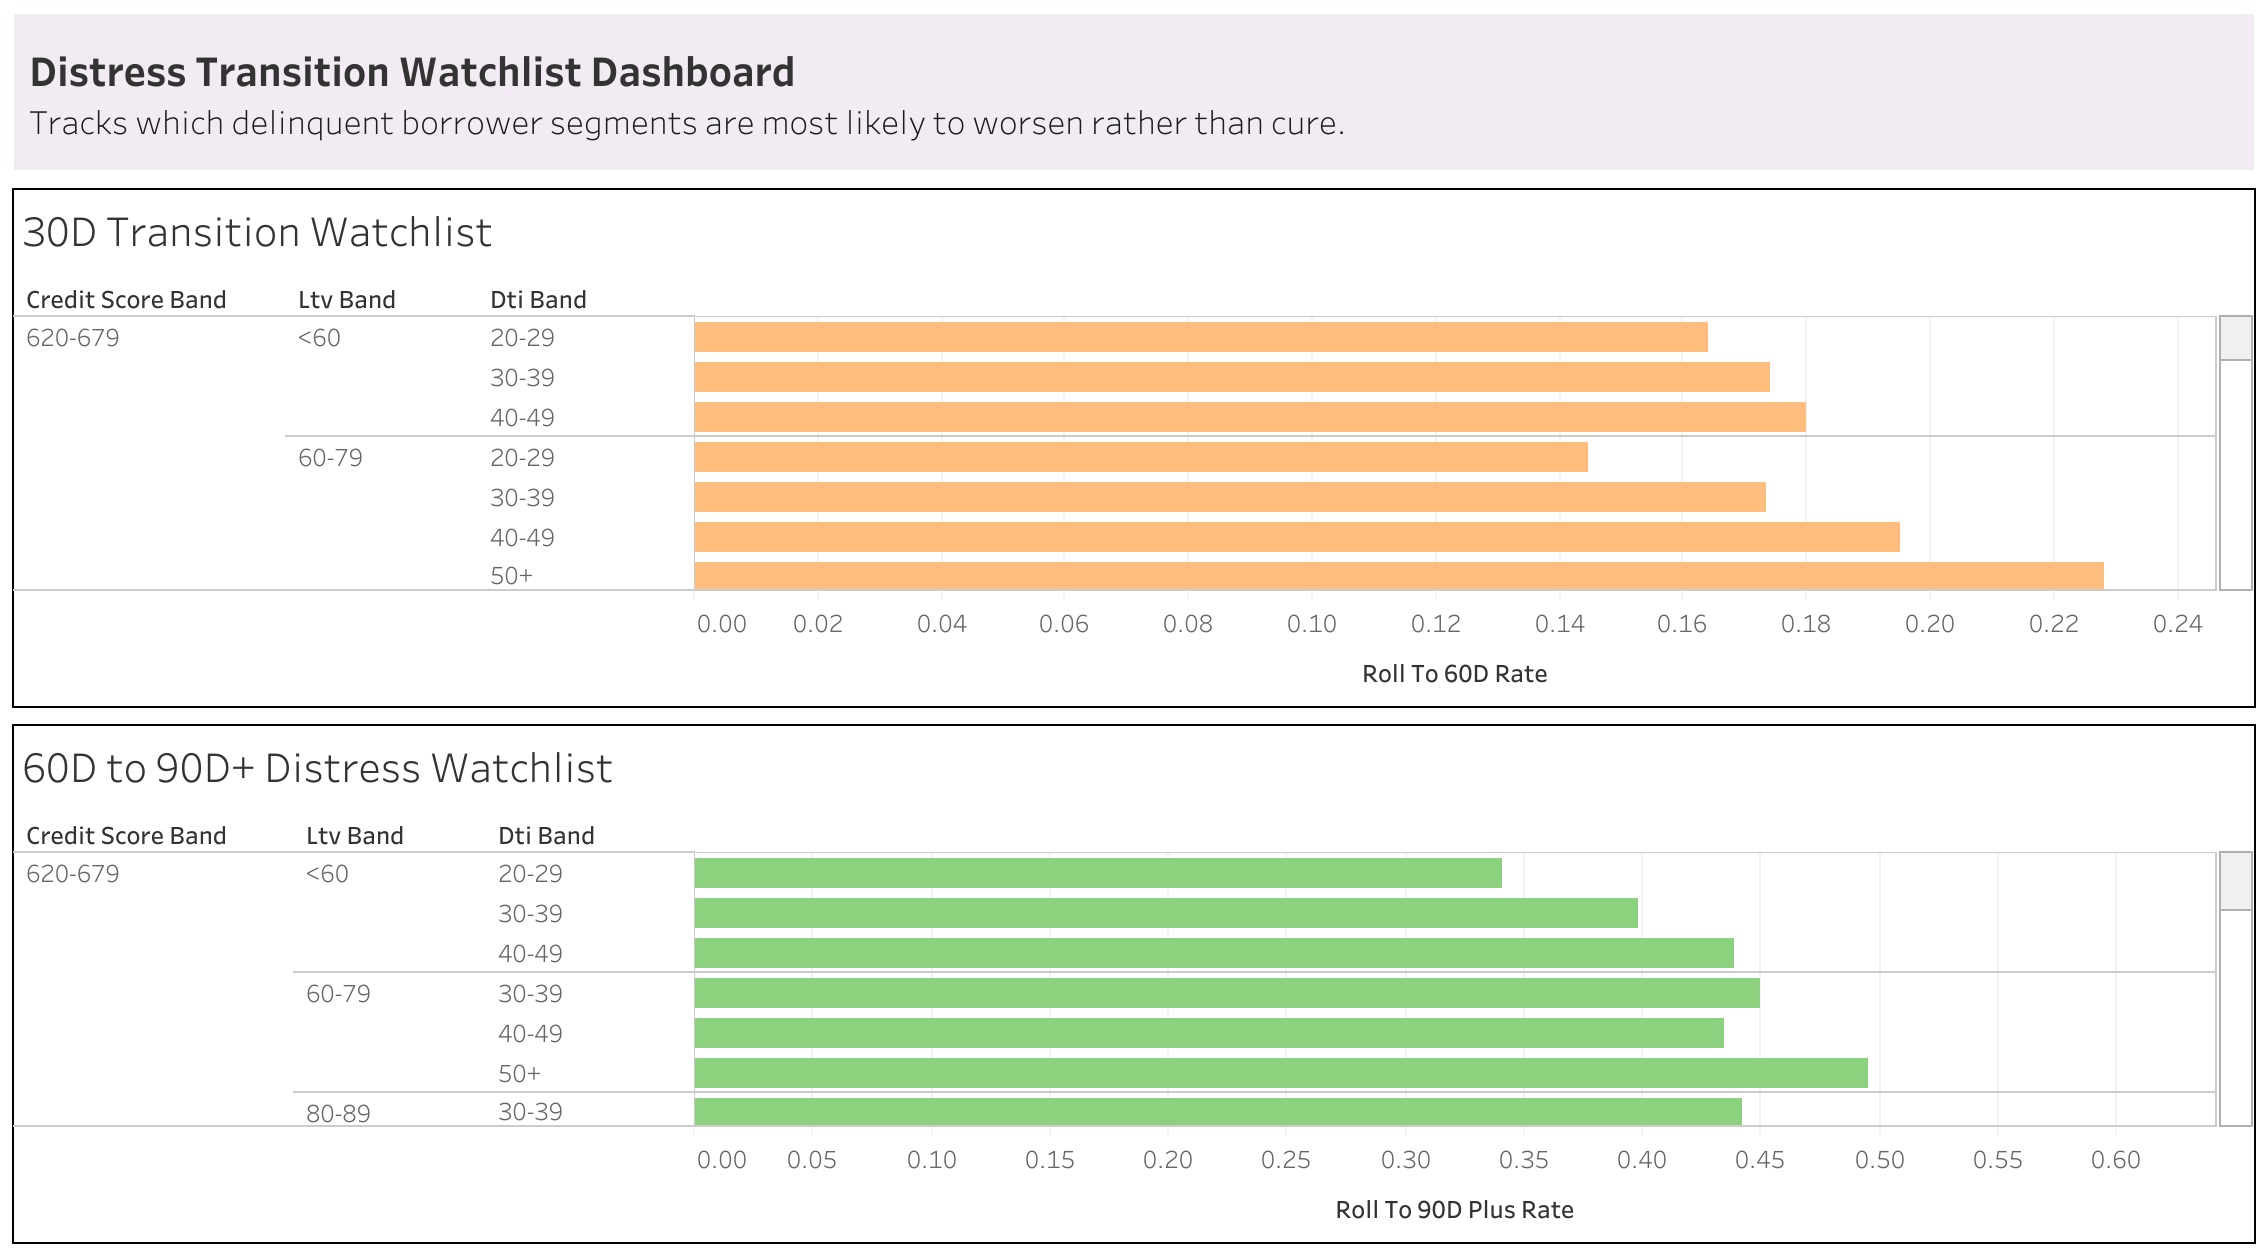

Layout of this report page (visuals, bound fields, positions):
{"tool":"tableau","page":{"name":"Distress Transition Watchlist Dashboard","canvas":[1000,1000],"units":"permille","ordinal":0},"visuals":[{"type":"title","box":[2.1,2.7,995.8,119.2]},{"type":"worksheet","title":"30D Transition Watchlist","mark":"Automatic","rows":["credit_score_band","ltv_band","dti_band"],"cols":["roll_to_60d_rate"],"box":[2.1,122,995.8,437.6]},{"type":"worksheet","title":"60D to 90D+ Distress Watchlist","mark":"Automatic","rows":["credit_score_band","ltv_band","dti_band"],"cols":["roll_to_90d_plus_rate"],"box":[2.1,559.5,995.8,437.8]}]}

Visuals, with their boxes on the dashboard's canvas, which has no fixed pixel size, in thousandths of its width and height (x1, y1, x2, y2). These are canvas units, not pixel positions in the 2266x1254 screenshot, which may show the page scaled, cropped or inside an application window:
title: select_region(2, 3, 998, 122)
"30D Transition Watchlist" worksheet: select_region(2, 122, 998, 560)
"60D to 90D+ Distress Watchlist" worksheet: select_region(2, 560, 998, 997)
